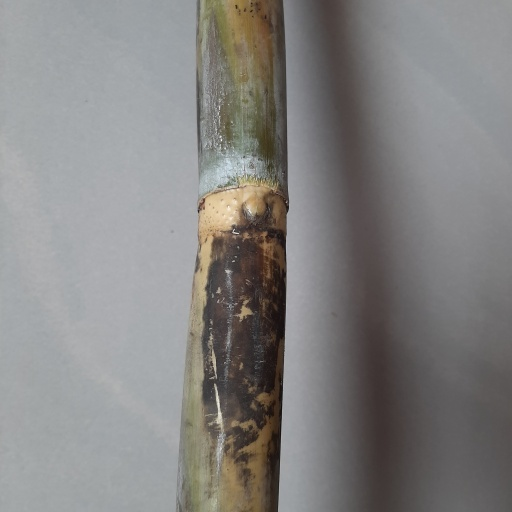Bud: (240, 194, 271, 228)
